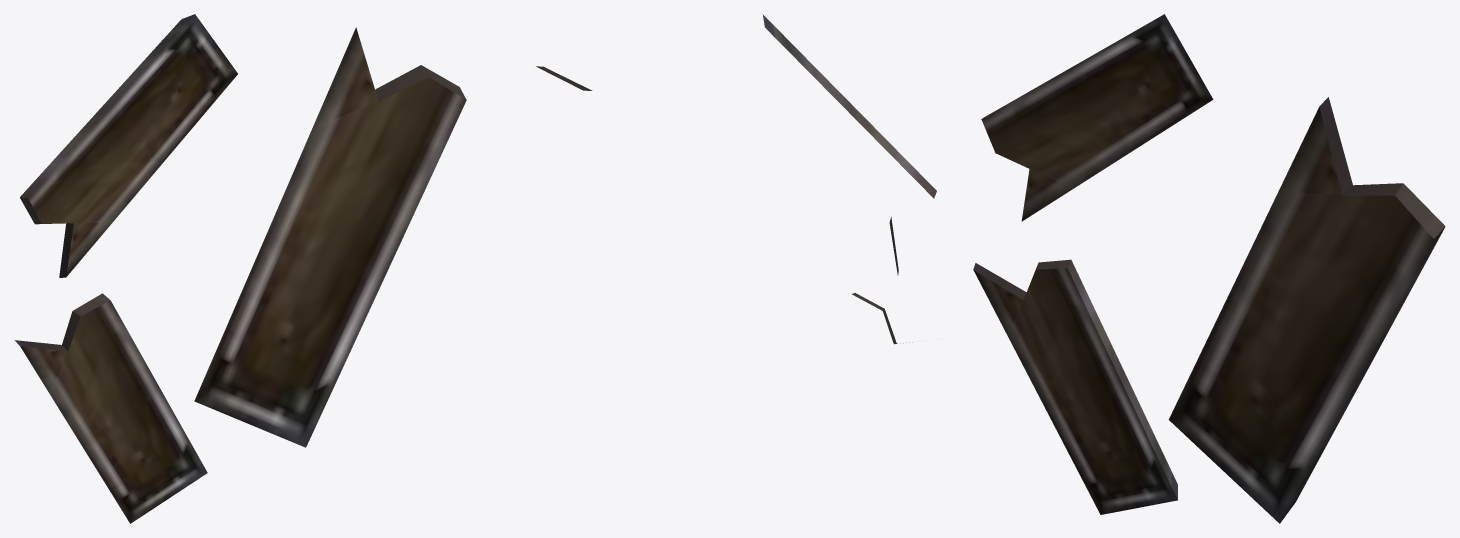
3 views of the same model, side by side, from view 1: azimuth 30°, elevation 25°; view 2: azimuth 150°, elevation 25°; view 3: azimuth 330°, elevation 25° (orthographic). The views are drawn at different scales.
Visible parts, largest first — view 1: model_Object56; view 2: model_Object56; view 3: model_Object56.
Boxes of the visible parts, x1,y1,x2,y2 form: model_Object56: (14,14,466,523); model_Object56: (536,14,936,344); model_Object56: (973,14,1445,523).
Bounding box in the file's own units: 1.53 × 1.62 × 0.0915.
Materials: 1 (1 with a texture image).
